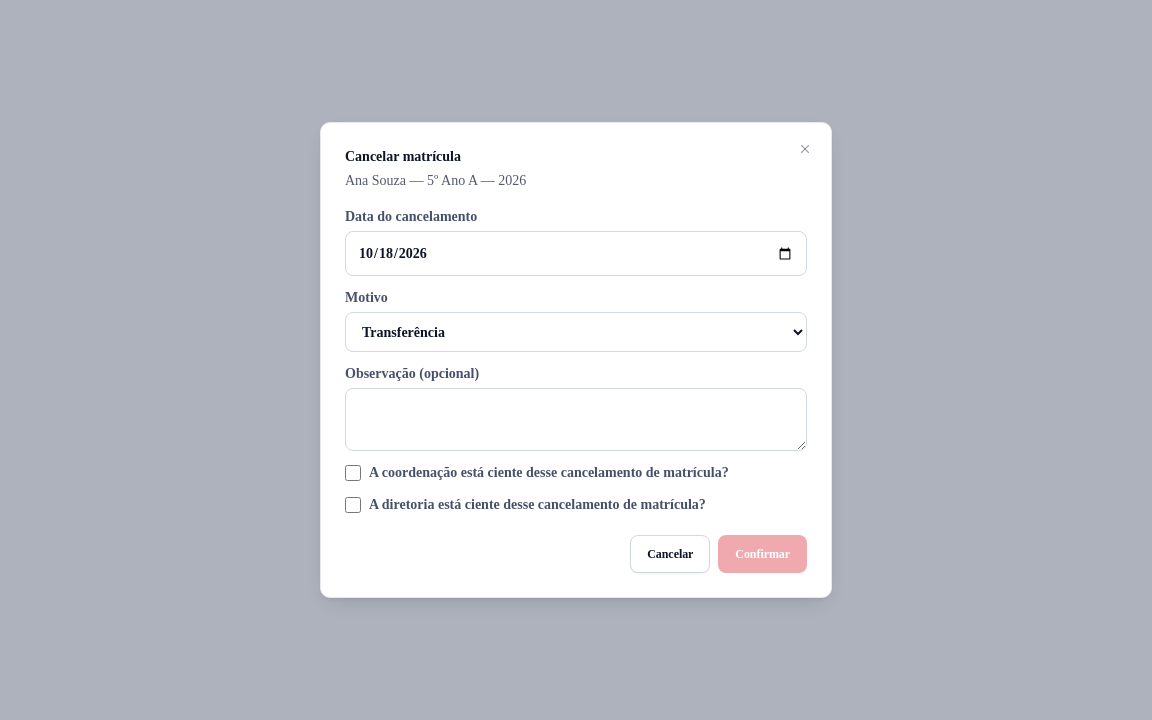
Test: CancelarMatriculaDialog › habilita Confirmar so depois de marcar os dois switches obrigatorios
Click the checkbox labelled "A coordenação está ciente desse cancelamento de matrícula?". click: (353, 473)
box: left=345, top=465, right=361, bottom=481
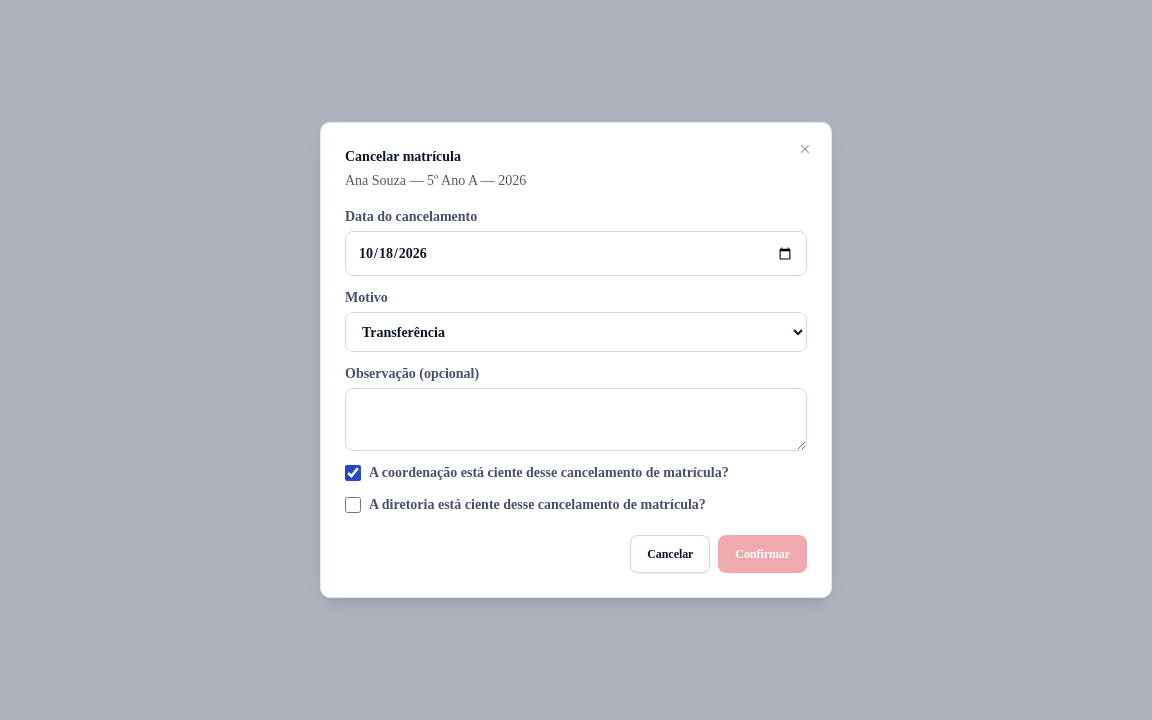
Click the checkbox labelled "A diretoria está ciente desse cancelamento de matrícula?". click: (353, 505)
box: left=345, top=497, right=361, bottom=513
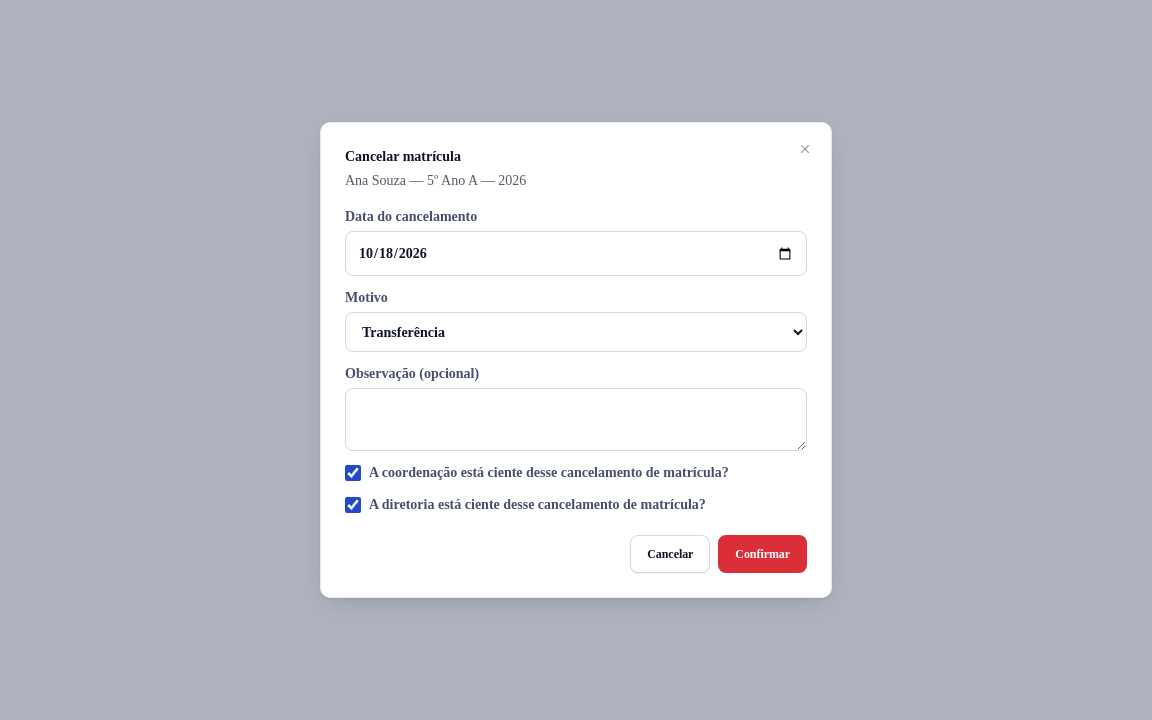
Expected: the button "Confirmar" is enabled, left=718, top=535, right=807, bottom=573
